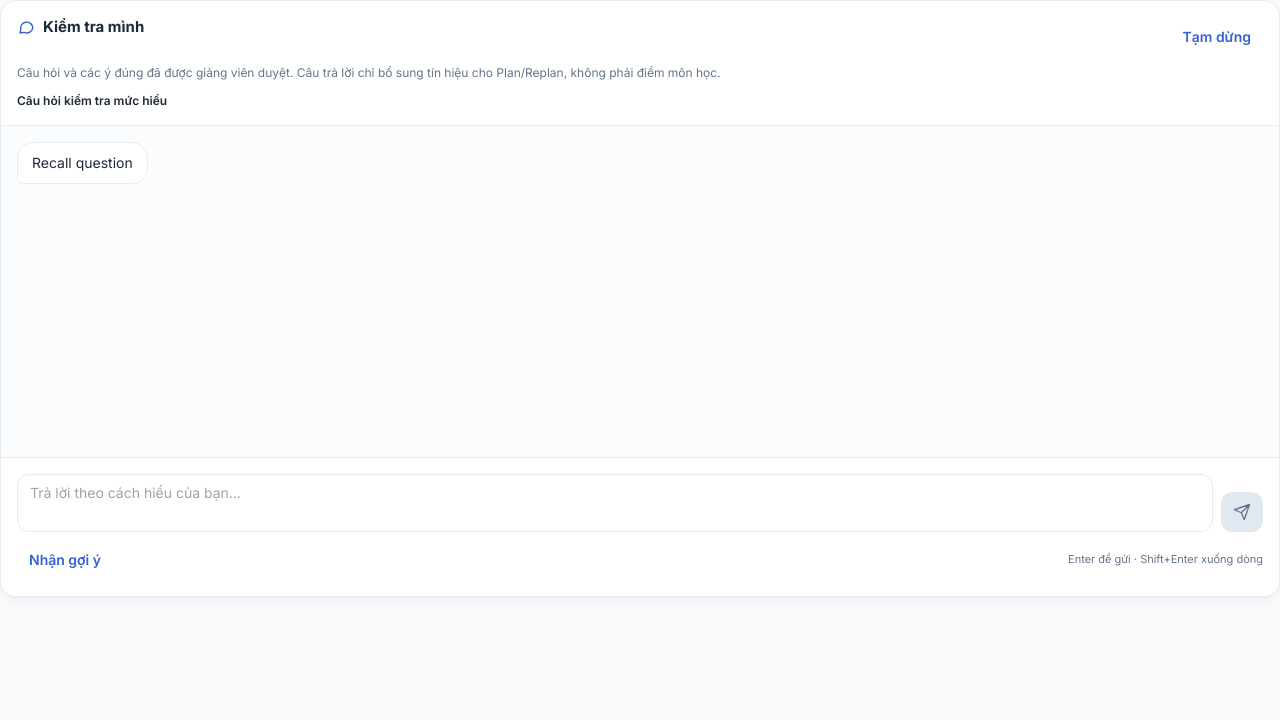
Test: Adaptive Do checkpoint › keeps the question, student answer, concise planning notice and next question in one transcript
Type "My explanation" into the text box named "Trả lời bằng lời của bạn".
click(615, 503); type("My explanation")  # box [17,474,1213,532]
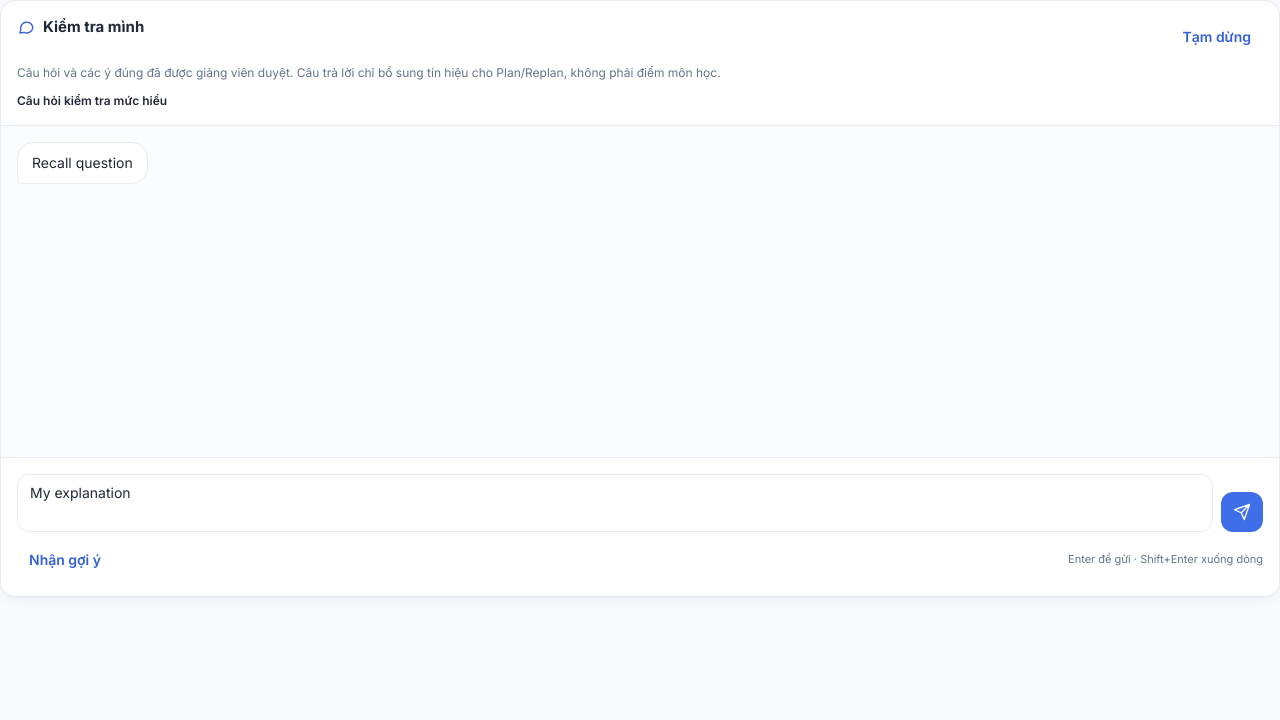
Press Enter in the text box named "Trả lời bằng lời của bạn", box [17,474,1213,532]
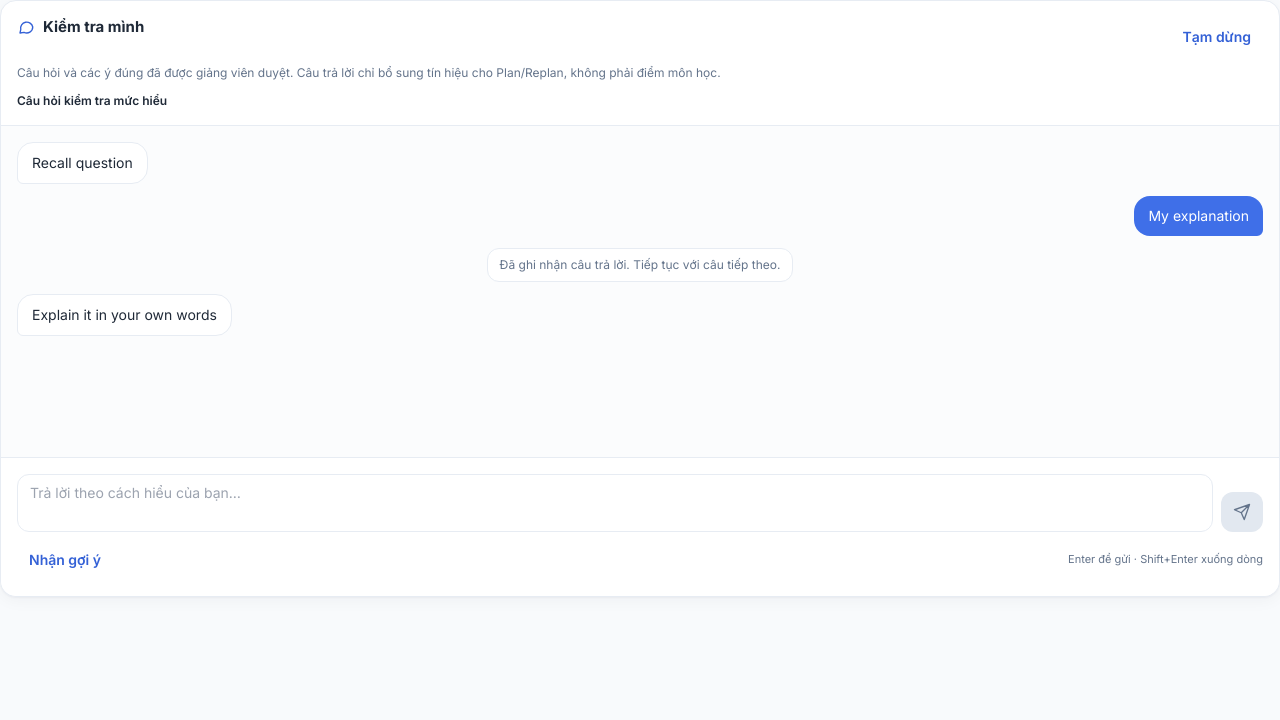
Expected: the text "Recall question" is shown, [32,153,133,173]
Now the text "Đã ghi nhận câu trả lời. Tiếp tục với câu tiếp theo." is shown, box [500,257,780,273]
Now the text "Explain it in your own words" is shown, box [32,305,217,325]
